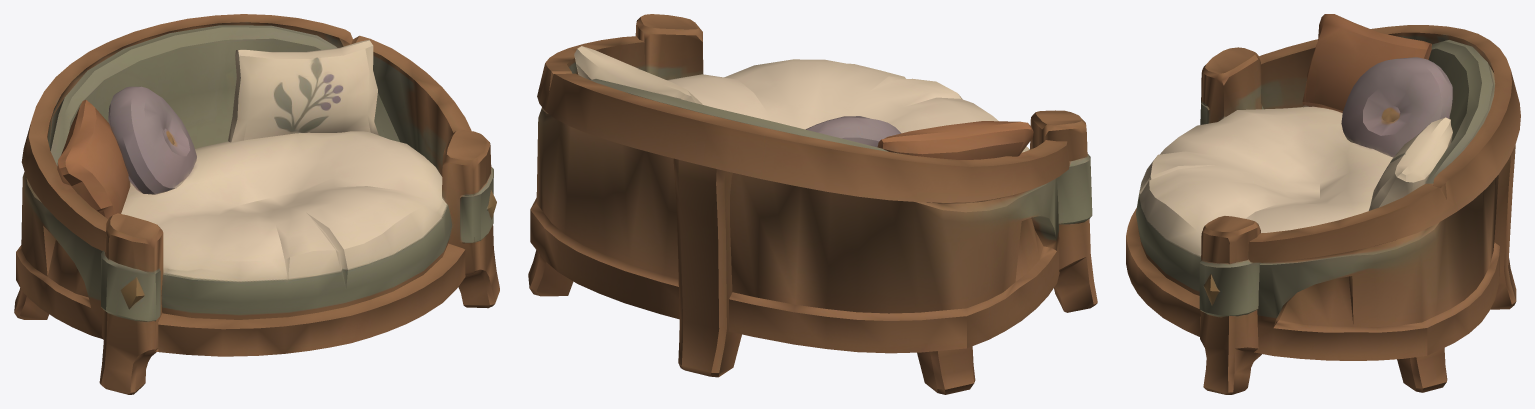
The model's file is Interior_RoundSofa_01.glb.
3 views of the same model, side by side, from view 1: azimuth 30°, elevation 25°; view 2: azimuth 150°, elevation 25°; view 3: azimuth 270°, elevation 25° (orthographic). The views are drawn at different scales.
Visible parts, largest first — view 1: Interior_RoundSofa_01.001; view 2: Interior_RoundSofa_01.001; view 3: Interior_RoundSofa_01.001.
Part boxes in pixels (<box>): Interior_RoundSofa_01.001: <box>14,14,499,394</box>; Interior_RoundSofa_01.001: <box>528,14,1097,394</box>; Interior_RoundSofa_01.001: <box>1126,14,1520,394</box>.
Bounding box in the file's own units: 1 × 0.5178 × 0.8463.
Materials: 1 (1 with a texture image).
